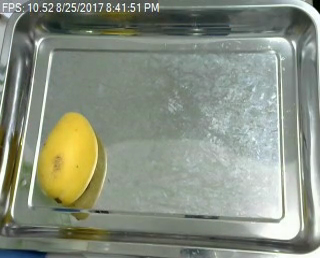Mango: (36, 107, 101, 205)
